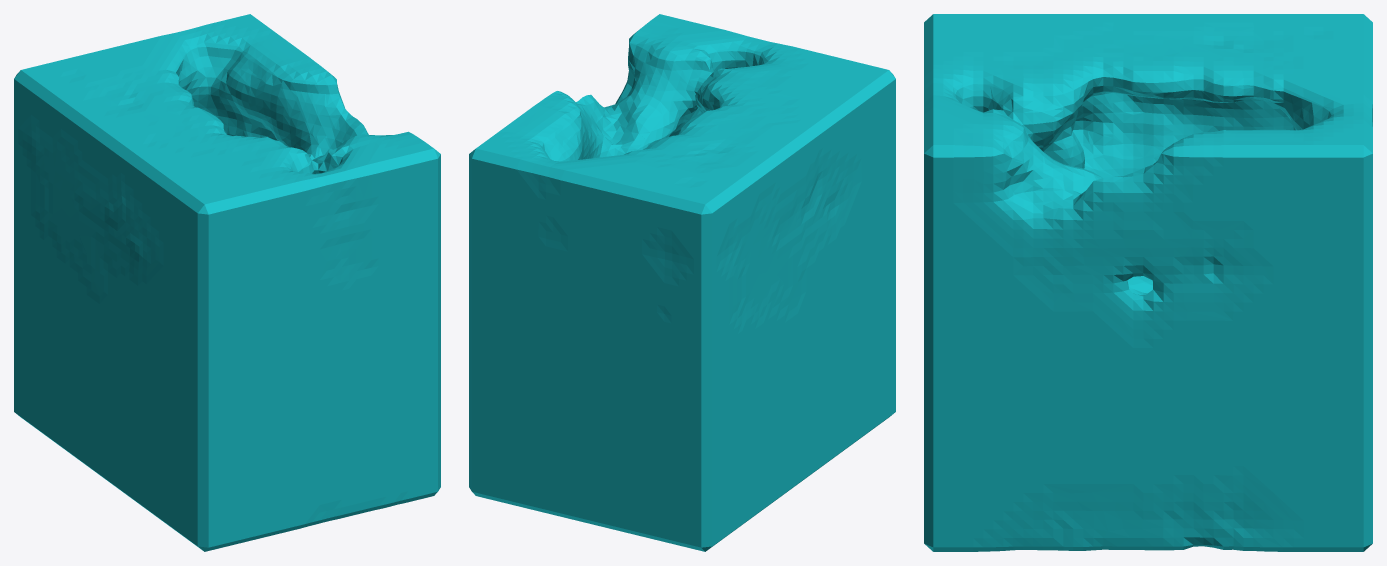
3 views of the same model, side by side, from view 1: azimuth 30°, elevation 25°; view 2: azimuth 150°, elevation 25°; view 3: azimuth 270°, elevation 25° (orthographic). The views are drawn at different scales.
Visible parts, largest first — view 1: Liquid_Domain; view 2: Liquid_Domain; view 3: Liquid_Domain.
Part boxes in pixels (x1,y1,x2,y2): Liquid_Domain: (14, 14, 440, 551); Liquid_Domain: (469, 14, 895, 551); Liquid_Domain: (924, 14, 1372, 551).
Bounding box in the file's own units: 79.09 × 108 × 108.
